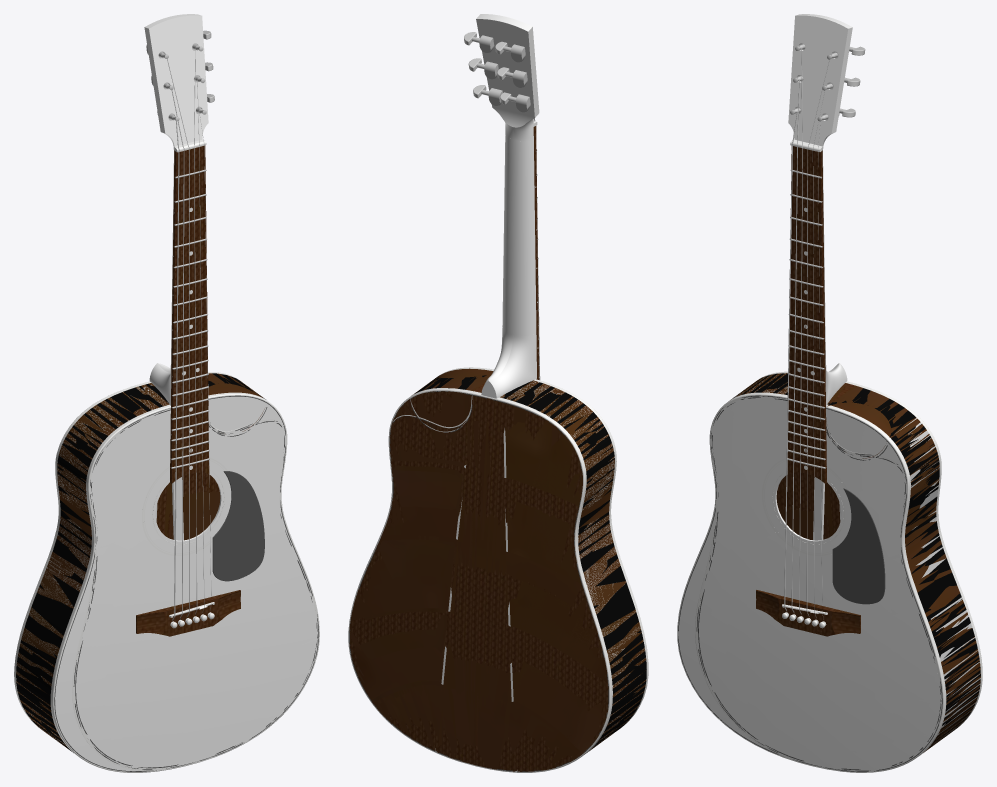
The model's file is luth-acoustic-1-transformed.glb.
The picture shows the model from 3 angles, left to right: view 1: azimuth 30°, elevation 25°; view 2: azimuth 150°, elevation 25°; view 3: azimuth 330°, elevation 25°; orthographic projection.
Parts seen in each view (by area): view 1: Body_Soundboard_Arm_Bevel_Cutaway_Venetian, Body_Soundboard_Arm_Bevel, Body_Soundboard_Venetian_Cutaway, Body_Sides_Arm_Bevel, Body_Sides_Venetian_Cutaway, Body_Fretboard, Body_Soundboard, Body_Headstock, Body_Soundboard_Florentine_Cutaway, Body_Fretboard_Soundhole_Tangent, Body_Soundboard_Arm_Bevel_Cutaway_Florentine, Body_Pickguard (+20 smaller); view 2: Body_Back_Three_Piece_Left, Body_Back, Body_Back_Three_Piece_Right, Body_Back_Two_Piece_Left, Body_Sides_Arm_Bevel, Body_Back_Venetian_Cutaway, Body_Sides_Venetian_Cutaway, Body_Back_Three_Piece_Venetian_Cutaway_Right, Surface_Neck_Profile, Body_Back_Florentine_Cutaway, Body_Headstock, Body_Back_Three_Piece_Middle (+13 smaller); view 3: Body_Soundboard_Arm_Bevel_Cutaway_Venetian, Body_Soundboard_Arm_Bevel, Body_Soundboard_Venetian_Cutaway, Body_Fretboard, Body_Soundboard, Body_Headstock, Body_Soundboard_Florentine_Cutaway, Body_Fretboard_Soundhole_Tangent, Body_Sides_Arm_Bevel, Body_Soundboard_Arm_Bevel_Cutaway_Florentine, Body_Pickguard, Body_Sides_Scalloped_Cutaway (+25 smaller).
Boxes of the visible parts, left/top/right/bottom form: Body_Soundboard_Arm_Bevel_Cutaway_Venetian: left=76, top=410, right=316, bottom=767; Body_Soundboard_Arm_Bevel: left=76, top=396, right=318, bottom=768; Body_Soundboard_Venetian_Cutaway: left=55, top=420, right=317, bottom=769; Body_Sides_Arm_Bevel: left=16, top=375, right=262, bottom=748; Body_Sides_Venetian_Cutaway: left=16, top=384, right=168, bottom=752; Body_Fretboard: left=170, top=147, right=208, bottom=474; Body_Soundboard: left=55, top=396, right=317, bottom=771; Body_Headstock: left=144, top=14, right=208, bottom=162; Body_Soundboard_Florentine_Cutaway: left=91, top=415, right=318, bottom=771; Body_Fretboard_Soundhole_Tangent: left=170, top=145, right=209, bottom=483; Body_Soundboard_Arm_Bevel_Cutaway_Florentine: left=76, top=404, right=318, bottom=760; Body_Pickguard: left=212, top=471, right=264, bottom=581; Body_Back_Three_Piece_Left: left=505, top=415, right=608, bottom=771; Body_Back: left=350, top=392, right=608, bottom=771; Body_Back_Three_Piece_Right: left=350, top=391, right=471, bottom=746; Body_Back_Two_Piece_Left: left=477, top=398, right=606, bottom=771; Body_Sides_Arm_Bevel: left=413, top=368, right=646, bottom=750; Body_Back_Venetian_Cutaway: left=350, top=395, right=579, bottom=766; Body_Sides_Venetian_Cutaway: left=503, top=381, right=646, bottom=750; Body_Back_Three_Piece_Venetian_Cutaway_Right: left=354, top=416, right=466, bottom=751; Surface_Neck_Profile: left=502, top=135, right=536, bottom=335; Body_Back_Florentine_Cutaway: left=350, top=400, right=583, bottom=769; Body_Headstock: left=476, top=14, right=539, bottom=141; Body_Back_Three_Piece_Middle: left=437, top=468, right=515, bottom=771; Body_Soundboard_Arm_Bevel_Cutaway_Venetian: left=699, top=398, right=940, bottom=769; Body_Soundboard_Arm_Bevel: left=698, top=396, right=941, bottom=770; Body_Soundboard_Venetian_Cutaway: left=679, top=397, right=941, bottom=770; Body_Fretboard: left=787, top=147, right=826, bottom=474; Body_Soundboard: left=678, top=396, right=941, bottom=768; Body_Headstock: left=788, top=14, right=852, bottom=162; Body_Soundboard_Florentine_Cutaway: left=712, top=414, right=941, bottom=770; Body_Fretboard_Soundhole_Tangent: left=787, top=146, right=826, bottom=483; Body_Sides_Arm_Bevel: left=736, top=373, right=980, bottom=752; Body_Soundboard_Arm_Bevel_Cutaway_Florentine: left=701, top=435, right=941, bottom=770; Body_Pickguard: left=832, top=488, right=885, bottom=604; Body_Sides_Scalloped_Cutaway: left=827, top=388, right=980, bottom=745.
Size of the model in its own units: 0.3917 by 1.04 by 0.1269.
251 materials, 50 textured.
